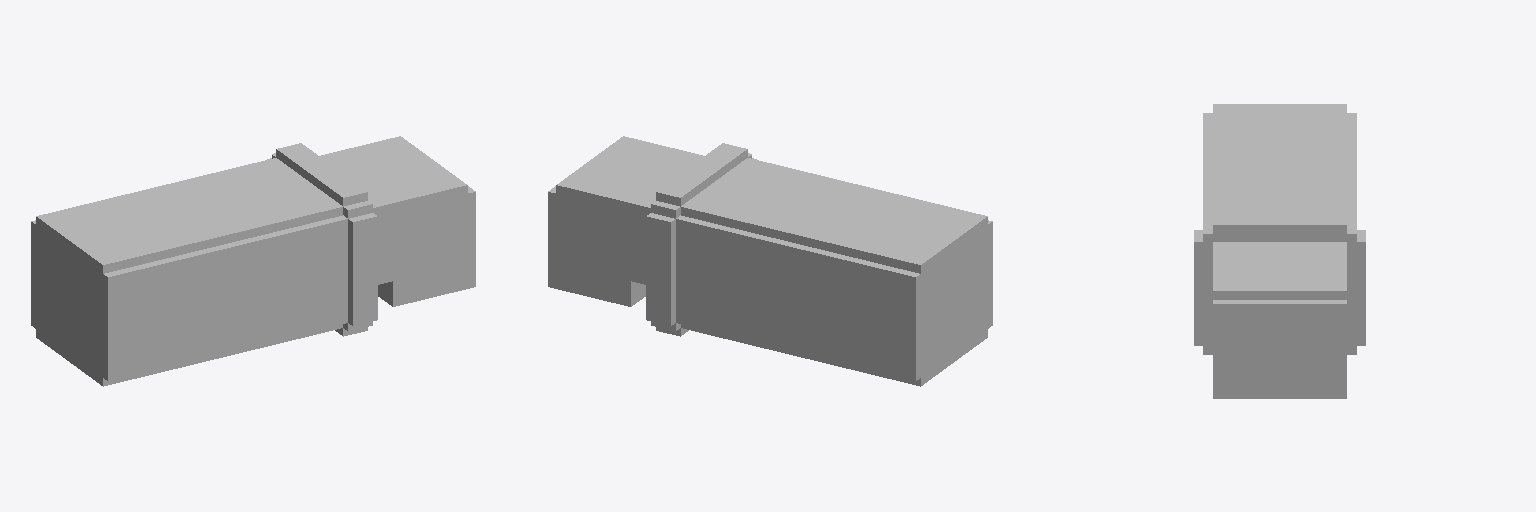
File: Левая рука синяя нижняя часть.obj
3 views of the same model, side by side, from view 1: azimuth 30°, elevation 25°; view 2: azimuth 150°, elevation 25°; view 3: azimuth 270°, elevation 25° (orthographic).
Visible parts, largest first — view 1: object 1; view 2: object 1; view 3: object 1.
Boxes of the visible parts, x1,y1,x2,y2 form: object 1: [31, 136, 475, 386]; object 1: [548, 136, 992, 386]; object 1: [1194, 104, 1365, 398].
Size of the model in its own units: 4.5 by 1.6 by 1.8.